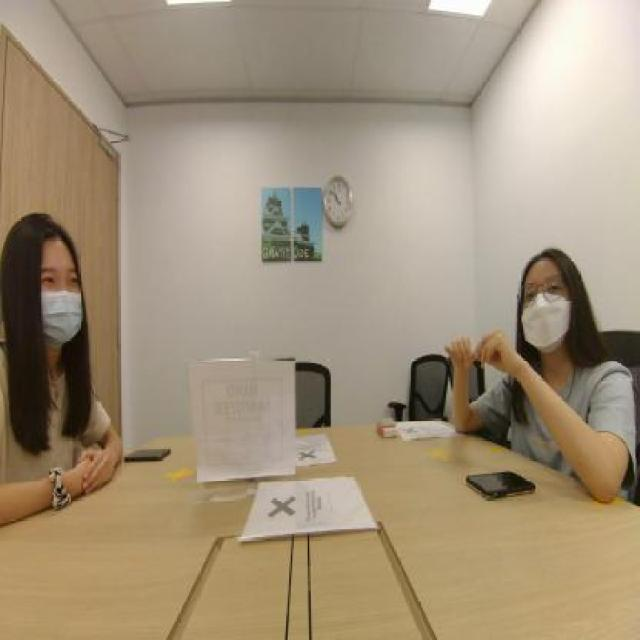Person: (0, 184, 111, 481), (464, 193, 602, 430)
